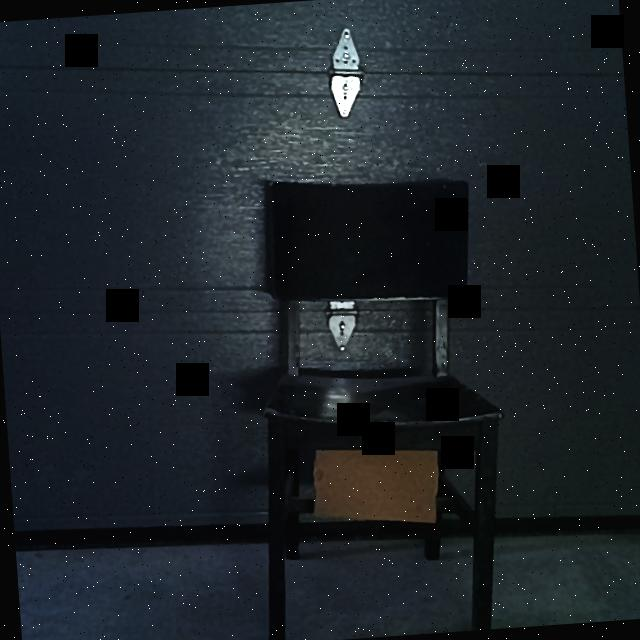box: (312, 448, 438, 524)
